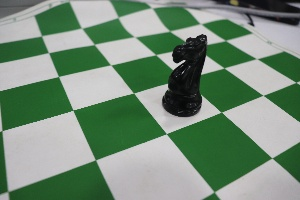black_horse: (160, 21, 207, 119)
